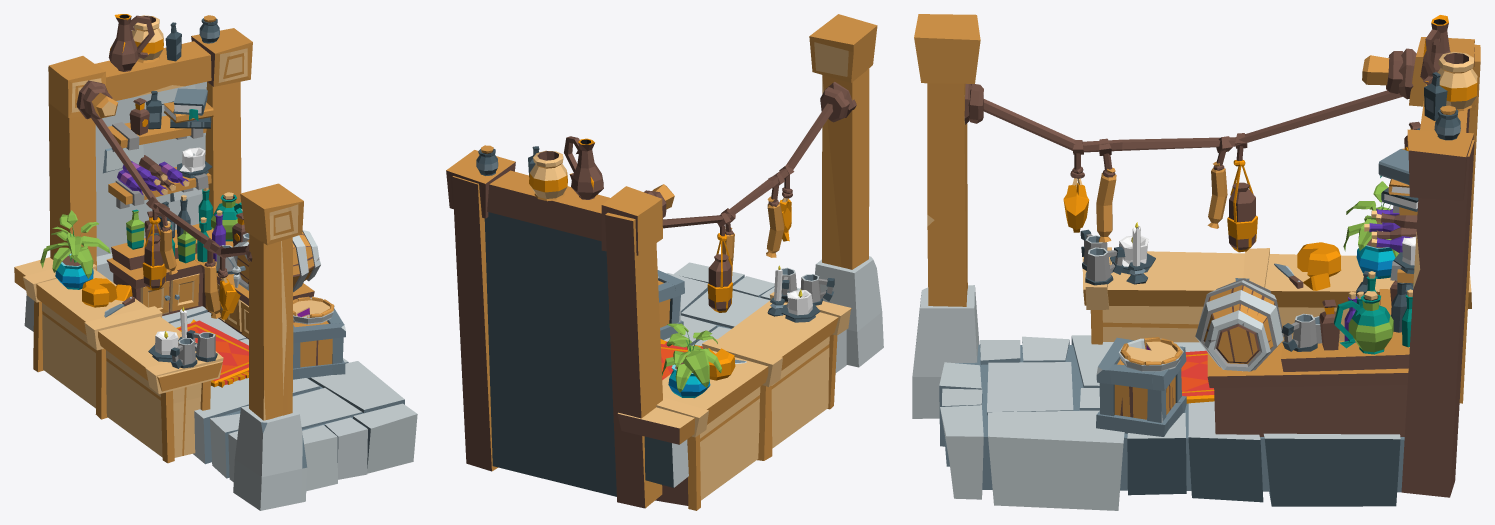
3 renders of one model, left to right at view 1: azimuth 30°, elevation 25°; view 2: azimuth 150°, elevation 25°; view 3: azimuth 270°, elevation 25°, orthographic. The views are drawn at different scales.
Visible parts, largest first — view 1: group1055791412, group893421278, group1599486412, group1353060445, group2070848865, group1217172921, group87193513, group1638315193, group2075708629, group1203594532, group1101690769, group1673085950 (+22 smaller); view 2: group1353060445, group1055791412, group893421278, group2070848865, group1599486412, group1638315193, group1101690769, group1099449222, group642537923, group87193513, group2142783881, group19649914 (+5 smaller); view 3: group1599486412, group1055791412, group2070848865, group1217172921, group893421278, group1203594532, group87193513, group650919509, group642537923, group1638315193, group1099449222, group1072805274 (+16 smaller).
Part boxes in pixels (left/top/right/bottom): group1055791412: left=48, top=56, right=307, bottom=510; group893421278: left=14, top=257, right=223, bottom=463; group1599486412: left=162, top=306, right=417, bottom=491; group1353060445: left=24, top=41, right=211, bottom=331; group2070848865: left=191, top=28, right=252, bottom=214; group1217172921: left=106, top=224, right=314, bottom=339; group87193513: left=293, top=308, right=345, bottom=379; group1638315193: left=40, top=210, right=110, bottom=289; group2075708629: left=176, top=319, right=248, bottom=387; group1203594532: left=232, top=230, right=320, bottom=292; group1101690769: left=108, top=14, right=154, bottom=71; group1673085950: left=108, top=115, right=206, bottom=151; group1353060445: left=484, top=170, right=688, bottom=496; group1055791412: left=601, top=14, right=883, bottom=508; group893421278: left=617, top=292, right=851, bottom=510; group2070848865: left=446, top=150, right=515, bottom=471; group1599486412: left=664, top=262, right=800, bottom=346; group1638315193: left=662, top=323, right=721, bottom=398; group1101690769: left=564, top=136, right=603, bottom=199; group1099449222: left=529, top=150, right=567, bottom=201; group642537923: left=707, top=212, right=732, bottom=312; group87193513: left=657, top=270, right=684, bottom=339; group2142783881: left=766, top=172, right=784, bottom=257; group19649914: left=781, top=289, right=820, bottom=322; group1599486412: left=939, top=335, right=1404, bottom=510; group1055791412: left=912, top=14, right=1480, bottom=418; group2070848865: left=1401, top=129, right=1474, bottom=497; group1217172921: left=1207, top=289, right=1409, bottom=436; group893421278: left=1082, top=247, right=1471, bottom=344; group1203594532: left=1195, top=278, right=1283, bottom=371; group87193513: left=1096, top=337, right=1186, bottom=436; group650919509: left=1334, top=291, right=1393, bottom=354; group642537923: left=1227, top=133, right=1257, bottom=252; group1638315193: left=1343, top=181, right=1398, bottom=278; group1099449222: left=1437, top=51, right=1477, bottom=111; group1072805274: left=1118, top=337, right=1183, bottom=371.
Size of the model in its own units: 2.41 by 3.38 by 4.1.
